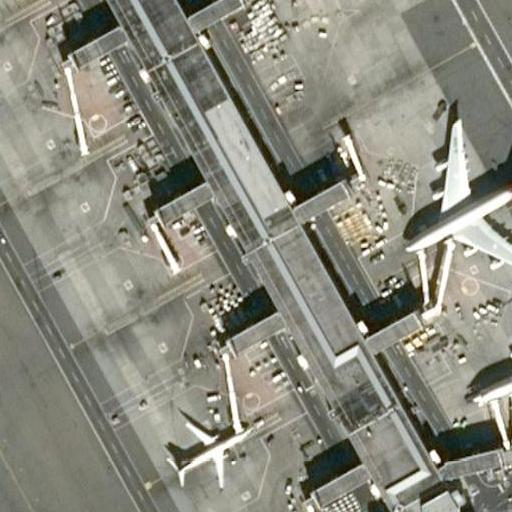Aircraft: (393, 104, 512, 275), (162, 408, 257, 486), (465, 284, 512, 420)
